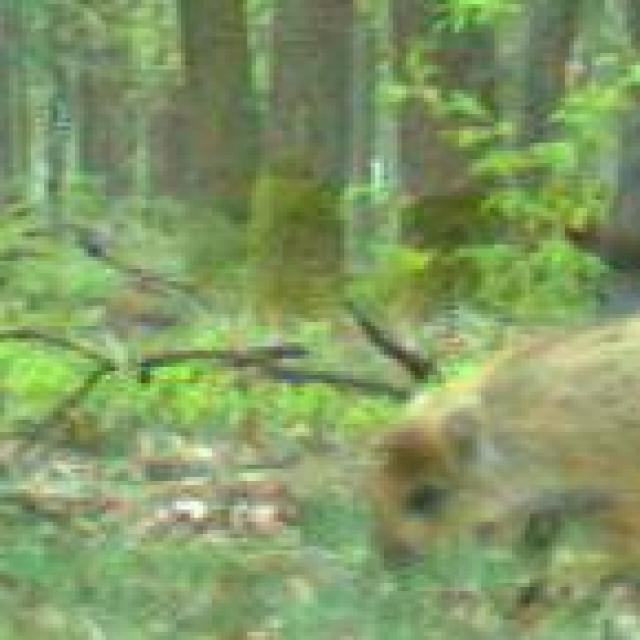pig: (350, 294, 640, 640)
